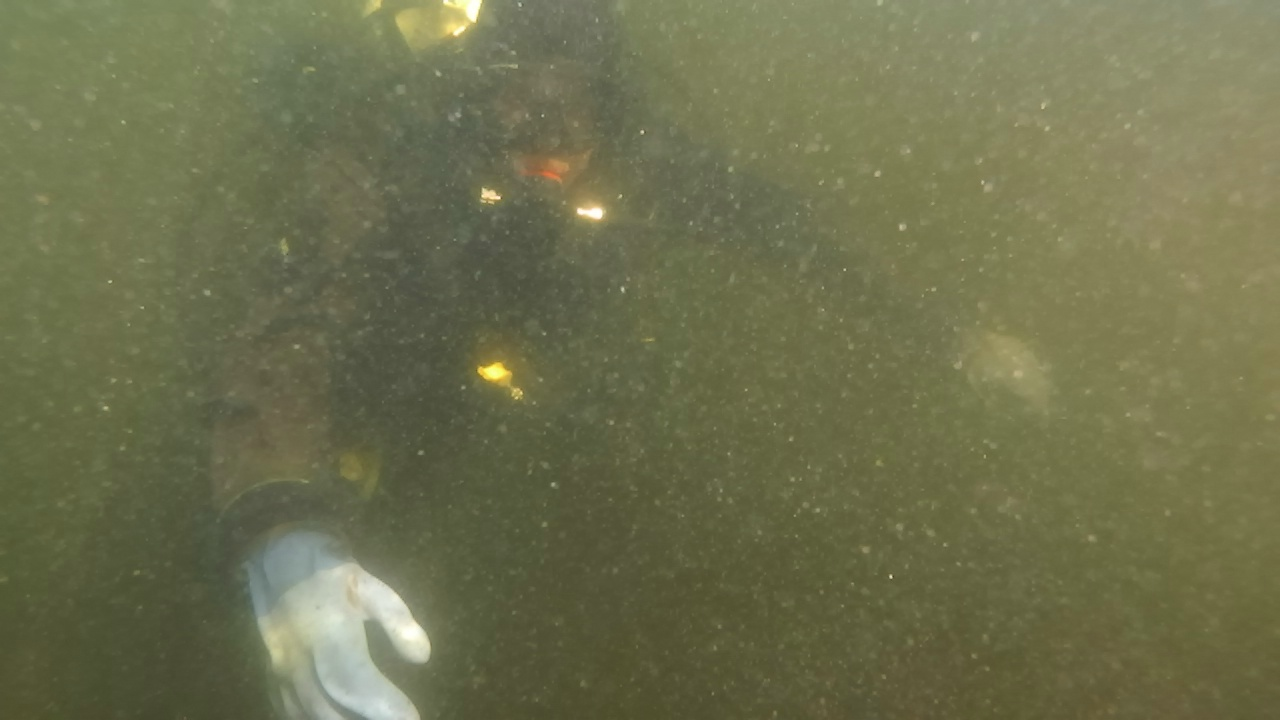Hand: (168, 506, 444, 706), (920, 318, 1072, 446)
